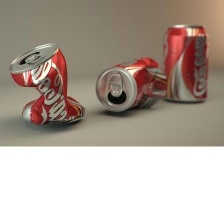can: (3, 36, 89, 130), (92, 46, 170, 120), (162, 20, 214, 105)
